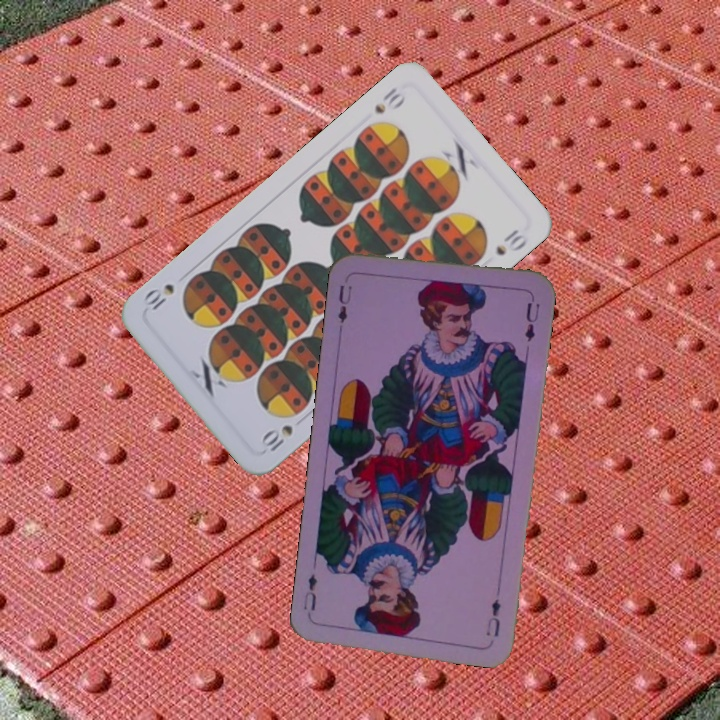EU: (482, 594, 504, 640), (334, 281, 354, 326)
S10: (257, 420, 296, 454), (370, 83, 409, 117)
